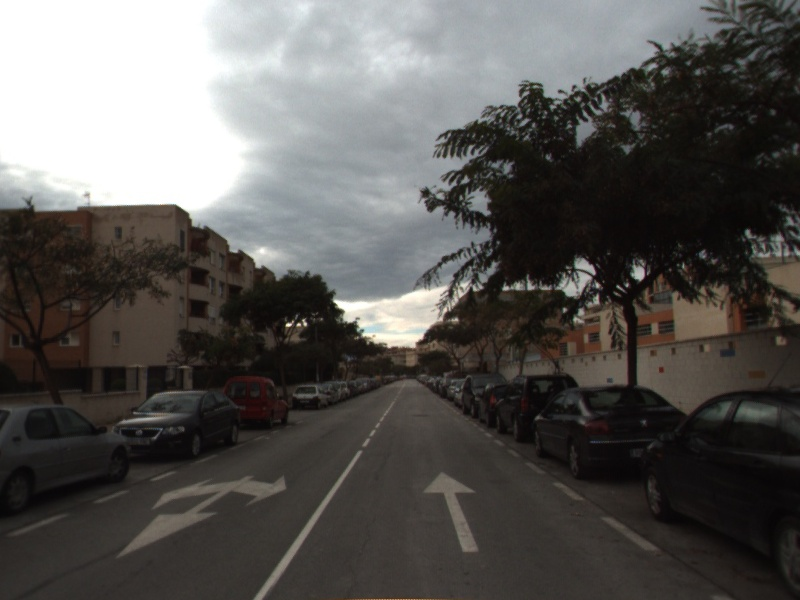STRAIGHT: (421, 469, 482, 554)
